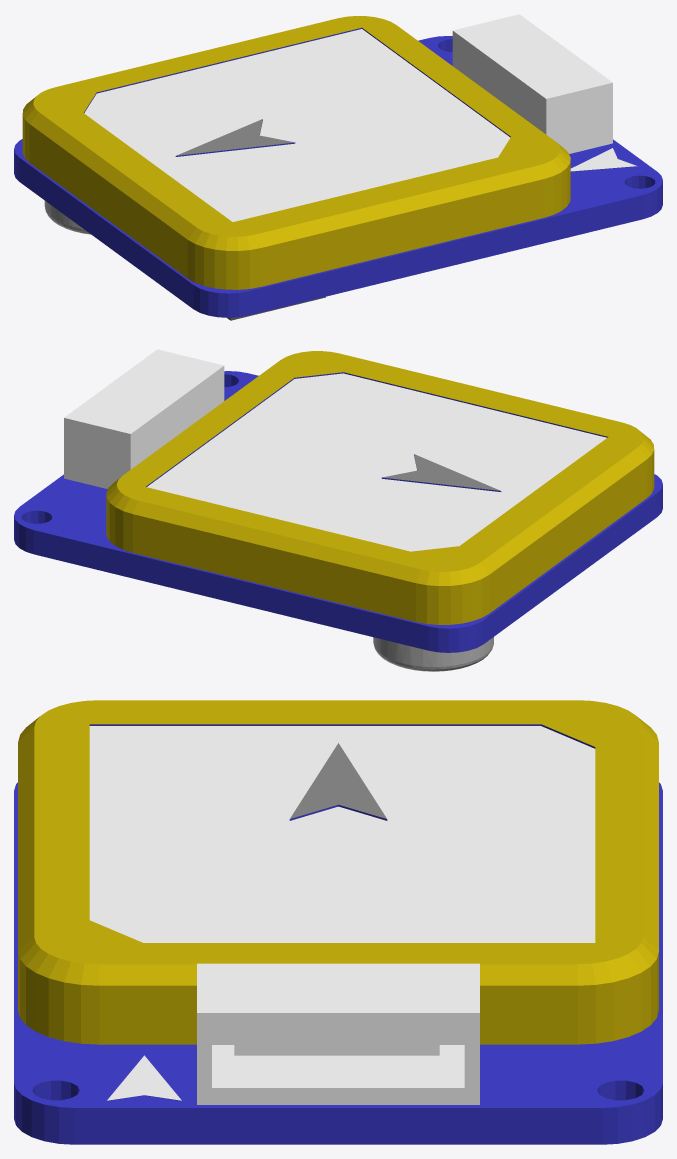
The model's file is model_holybro_m9n_micro-j8k6R_WK.glb.
3 views of the same model, one above another, from view 1: azimuth 30°, elevation 25°; view 2: azimuth 150°, elevation 25°; view 3: azimuth 270°, elevation 25° (orthographic). The views are drawn at different scales.
Bounding box in the file's own units: 20 × 4.9 × 16.
